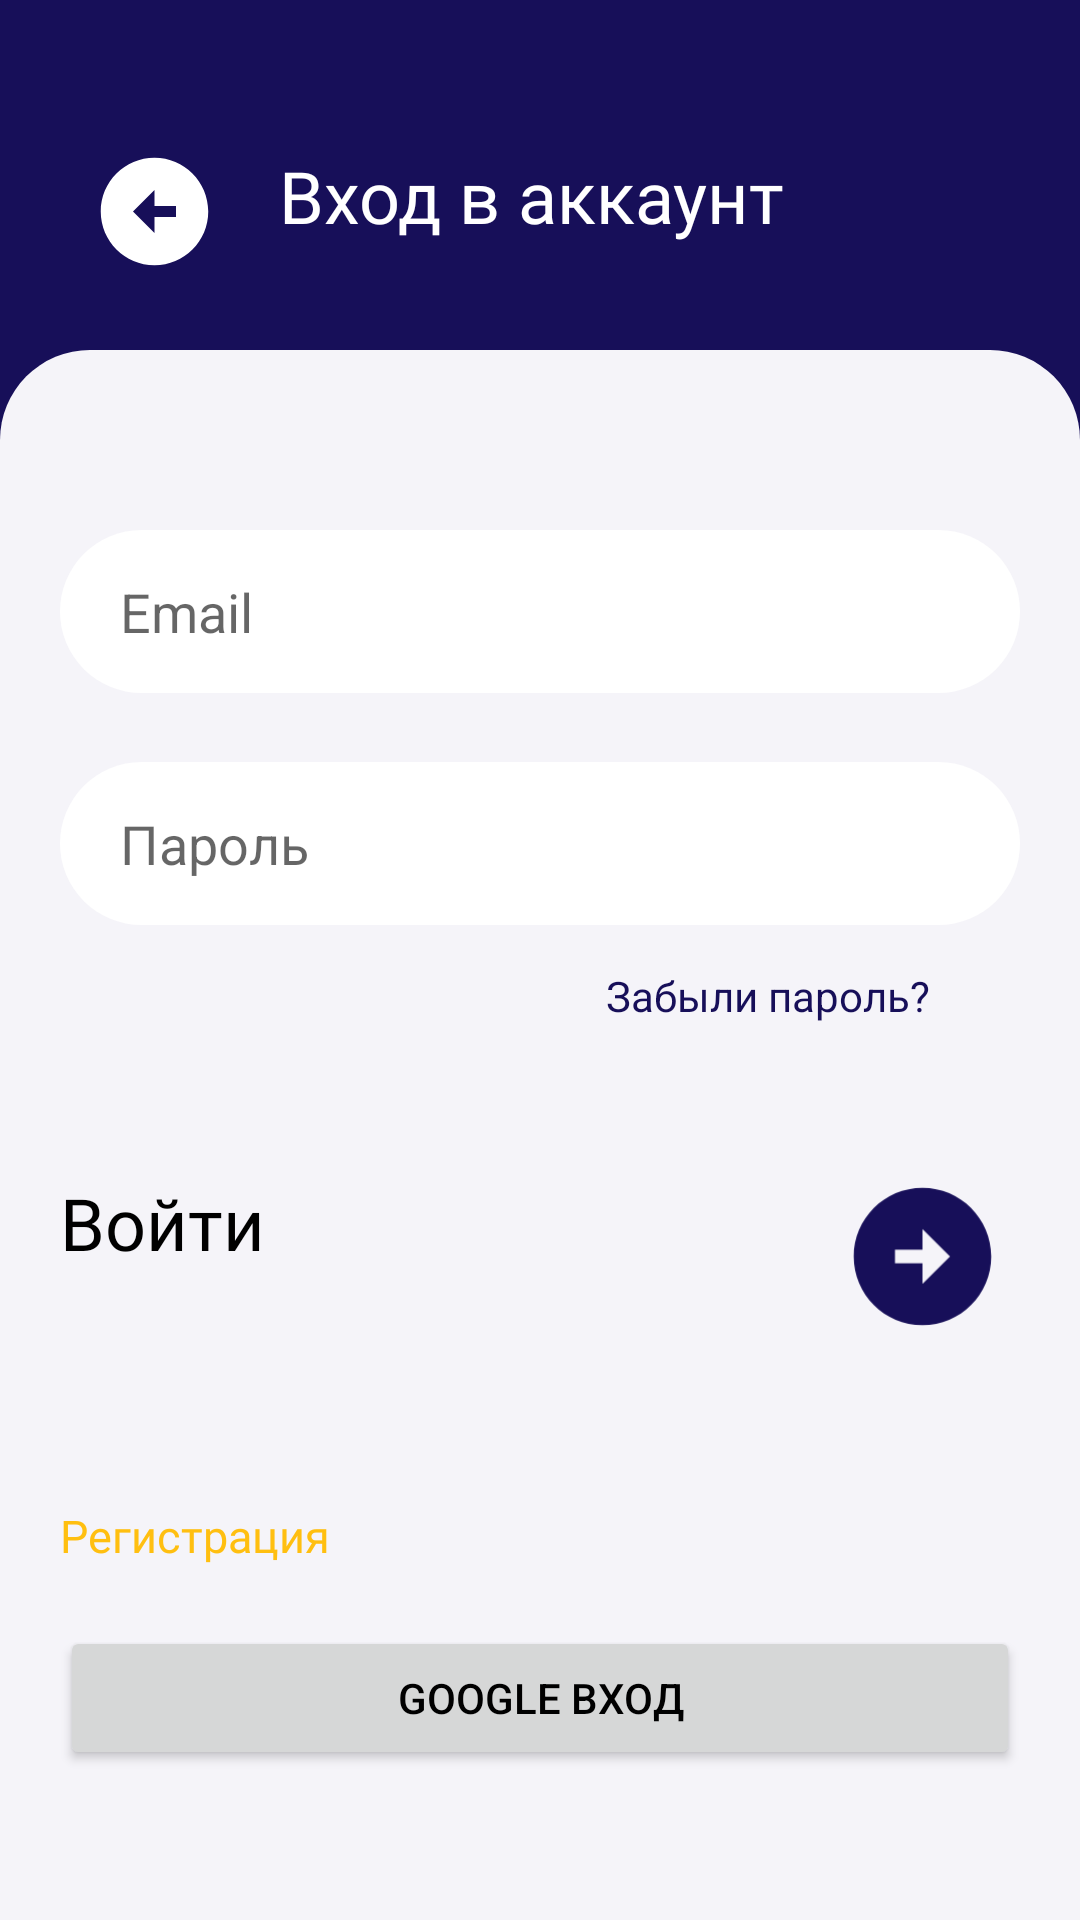

Screen size 1080x1920. Icon name, then its center in pixels as point (x, y):
arrow backk: point (154, 211)
arrow goo: point (922, 1256)
